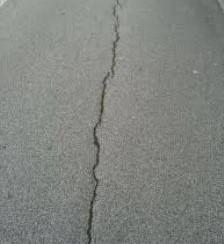crack: (83, 1, 124, 244)
